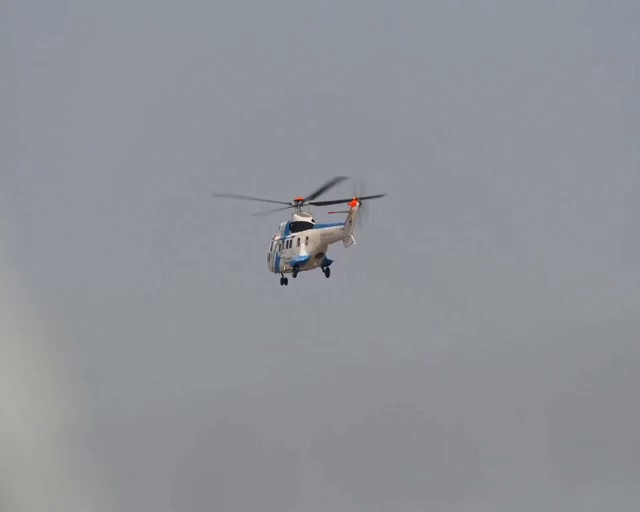HELICOPTER: (212, 175, 389, 286)
